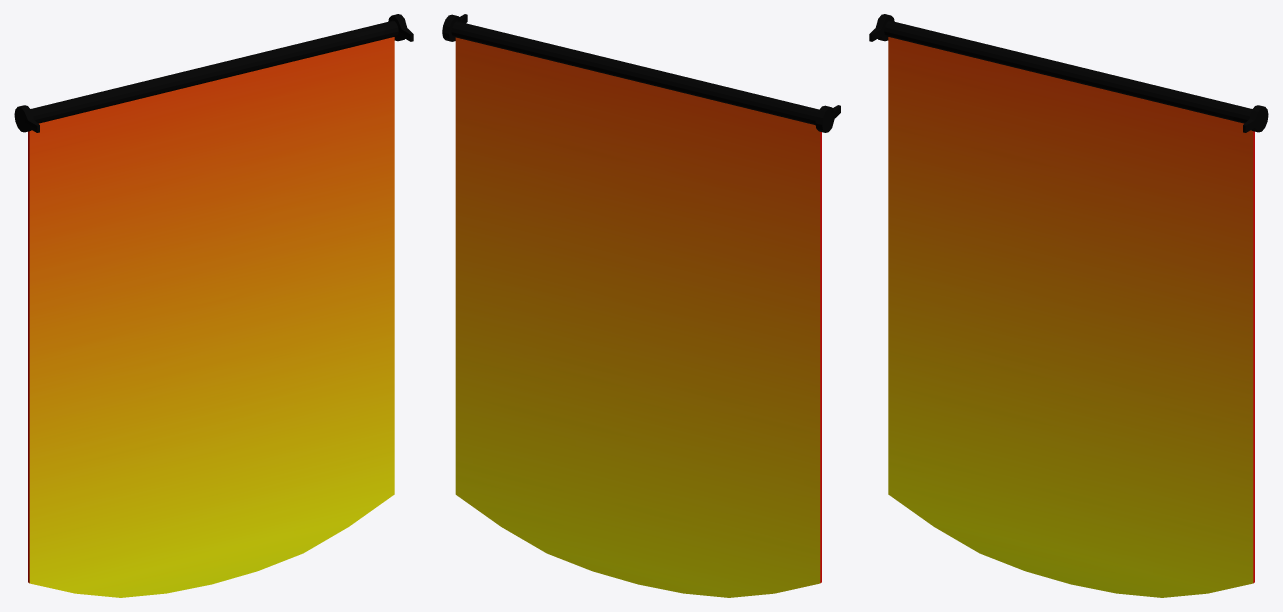
The model's file is Banner_3.fbx.
3 renders of one model, left to right at view 1: azimuth 30°, elevation 25°; view 2: azimuth 150°, elevation 25°; view 3: azimuth 330°, elevation 25°, orthographic.
Visible parts, largest first — view 1: Banner 3; view 2: Banner 3; view 3: Banner 3.
Boxes of the visible parts, x1=… form: Banner 3: x1=14, y1=14, x2=413, y2=597; Banner 3: x1=442, y1=14, x2=840, y2=597; Banner 3: x1=869, y1=14, x2=1268, y2=597.
Size of the model in its own units: 115 by 150 by 10.81.
